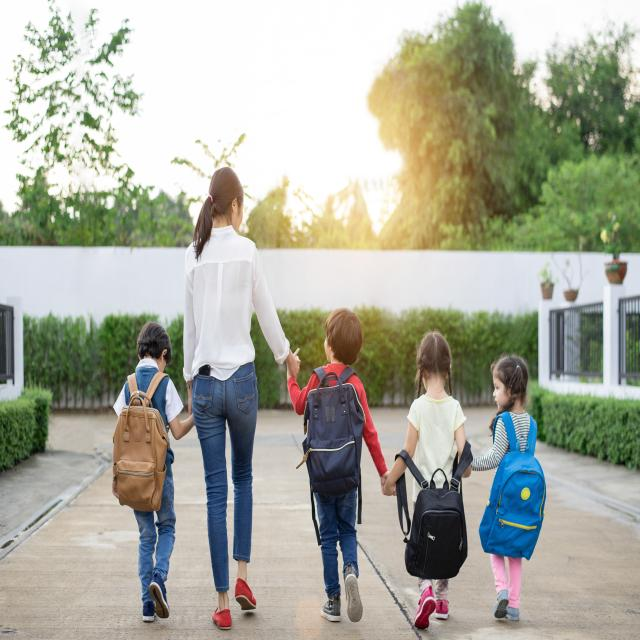adult: (183, 162, 302, 628)
child: (284, 304, 394, 622), (380, 329, 471, 626), (108, 320, 195, 622), (470, 352, 539, 623)
